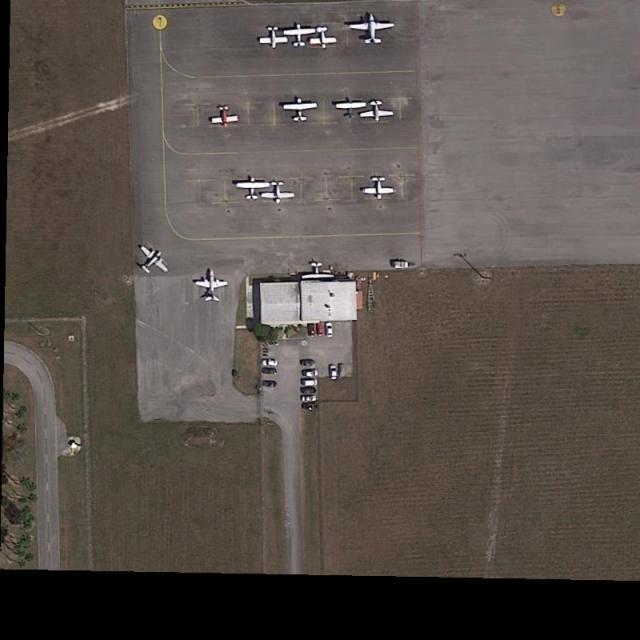vehicle: (393, 260, 410, 270), (262, 366, 278, 376), (301, 378, 318, 387), (262, 358, 278, 367), (329, 366, 338, 381), (307, 322, 316, 337), (302, 395, 318, 403), (302, 370, 318, 378), (261, 380, 277, 388), (326, 322, 334, 338), (302, 403, 318, 411), (300, 387, 316, 394), (300, 359, 315, 366), (339, 363, 346, 378), (316, 323, 324, 336)
